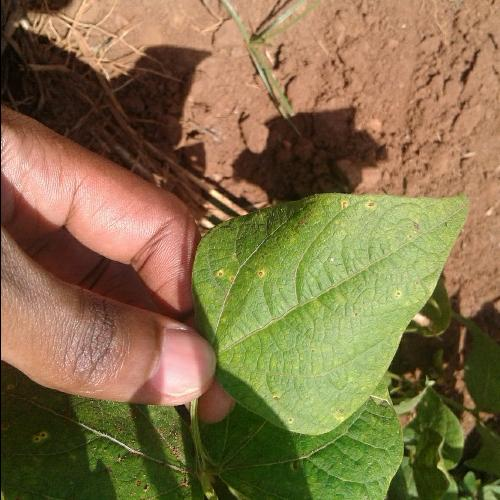hawar: (221, 176, 444, 390)
